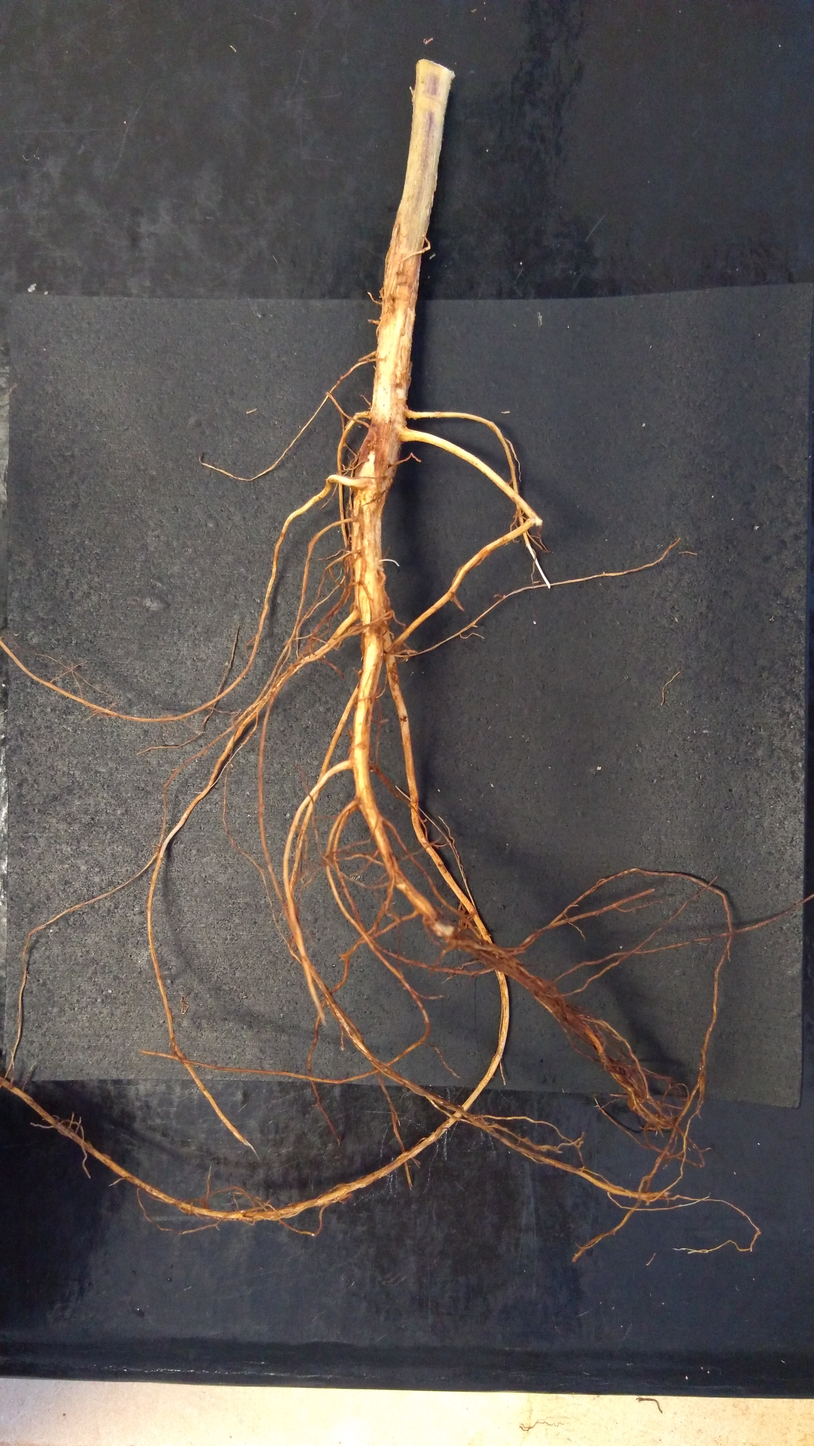nodule: (433, 921, 455, 938), (357, 669, 362, 676), (322, 654, 326, 658)
